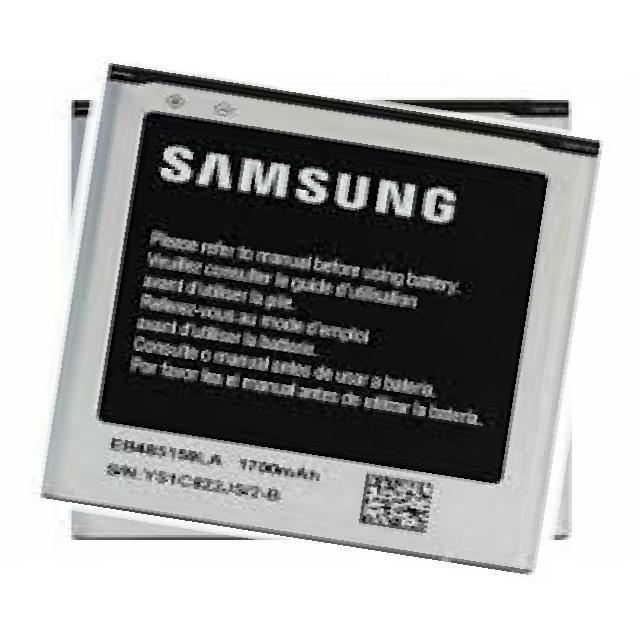Battery: (22, 44, 623, 587)
